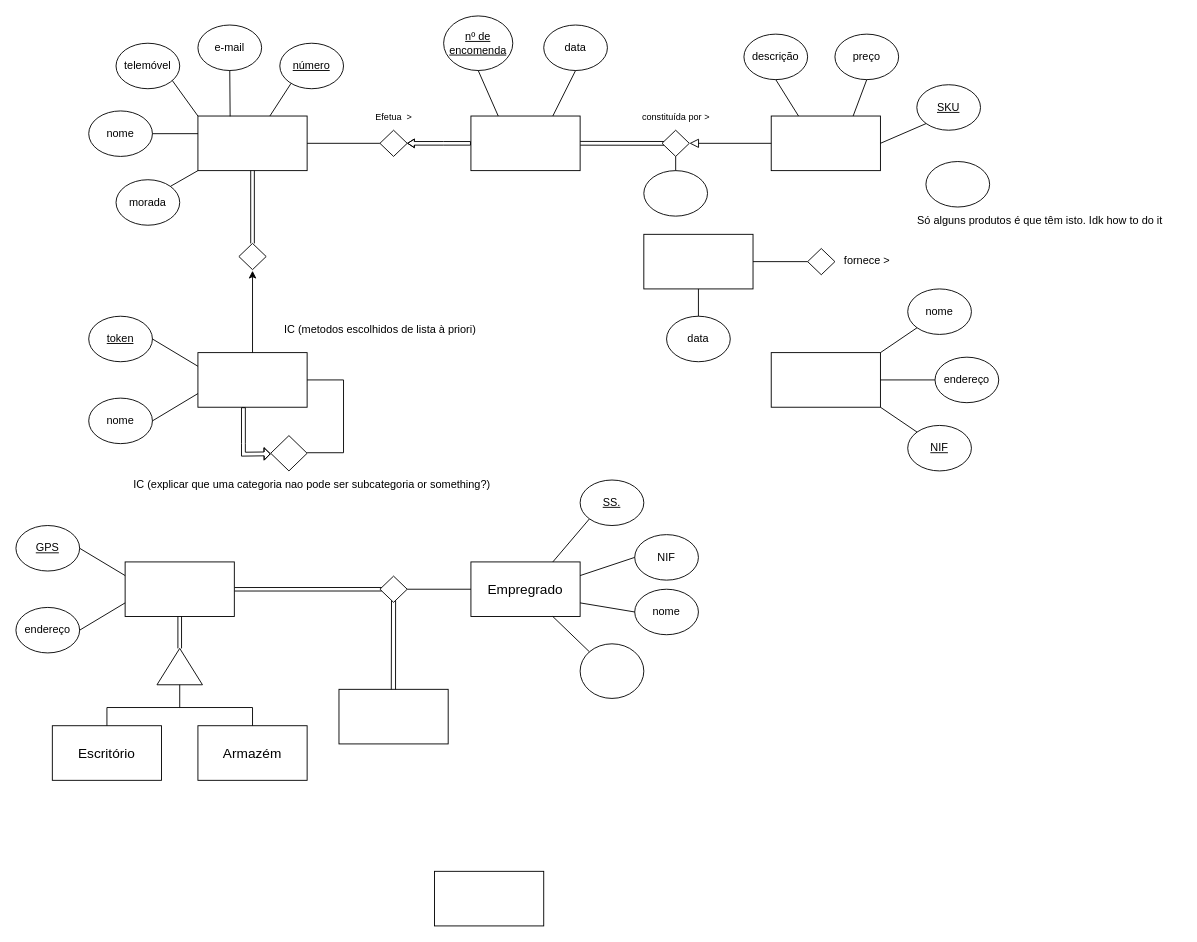
Some shapes in this 1197 by 942 pixel diagram are drawn without their labels. Each missing label, with the centre of its shape:
Cliente: pixel 252 143
Contrato: pixel 698 261
data de nascimento: pixel 611 670
Departamento: pixel 393 716
EAN(?): pixel 957 184
Encomenda: pixel 525 143
Fornecedor: pixel 825 379
Local de Trabalho: pixel 179 589
Método de Pagamento: pixel 252 379
Produto: pixel 825 143
quantidade: pixel 675 193
Vendas????: pixel 489 898
